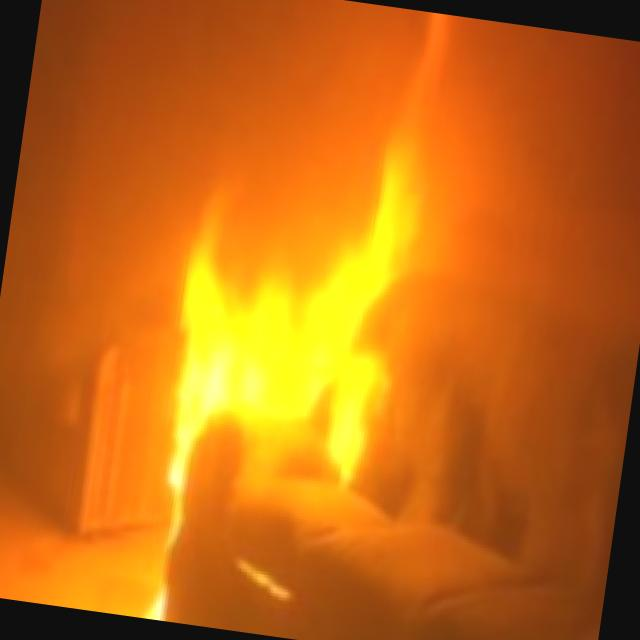fire: (147, 176, 409, 462)
